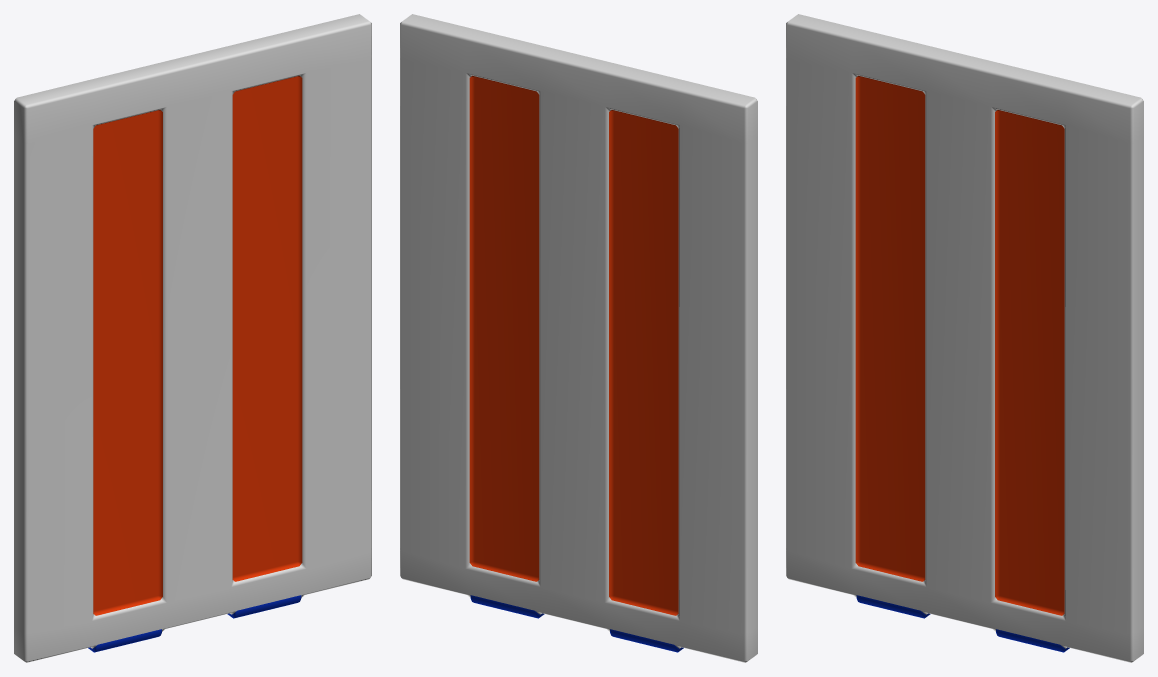
File: Industrial_Door.fbx
3 views of the same model, side by side, from view 1: azimuth 30°, elevation 25°; view 2: azimuth 150°, elevation 25°; view 3: azimuth 330°, elevation 25° (orthographic).
Visible parts, largest first — view 1: Door; view 2: Door; view 3: Door.
Boxes of the visible parts, box(x1,y1,x2,y2) form: Door: box(14, 14, 371, 662); Door: box(400, 14, 757, 662); Door: box(786, 14, 1143, 662).
Bounding box in the file's own units: 190 × 295 × 12.54.
